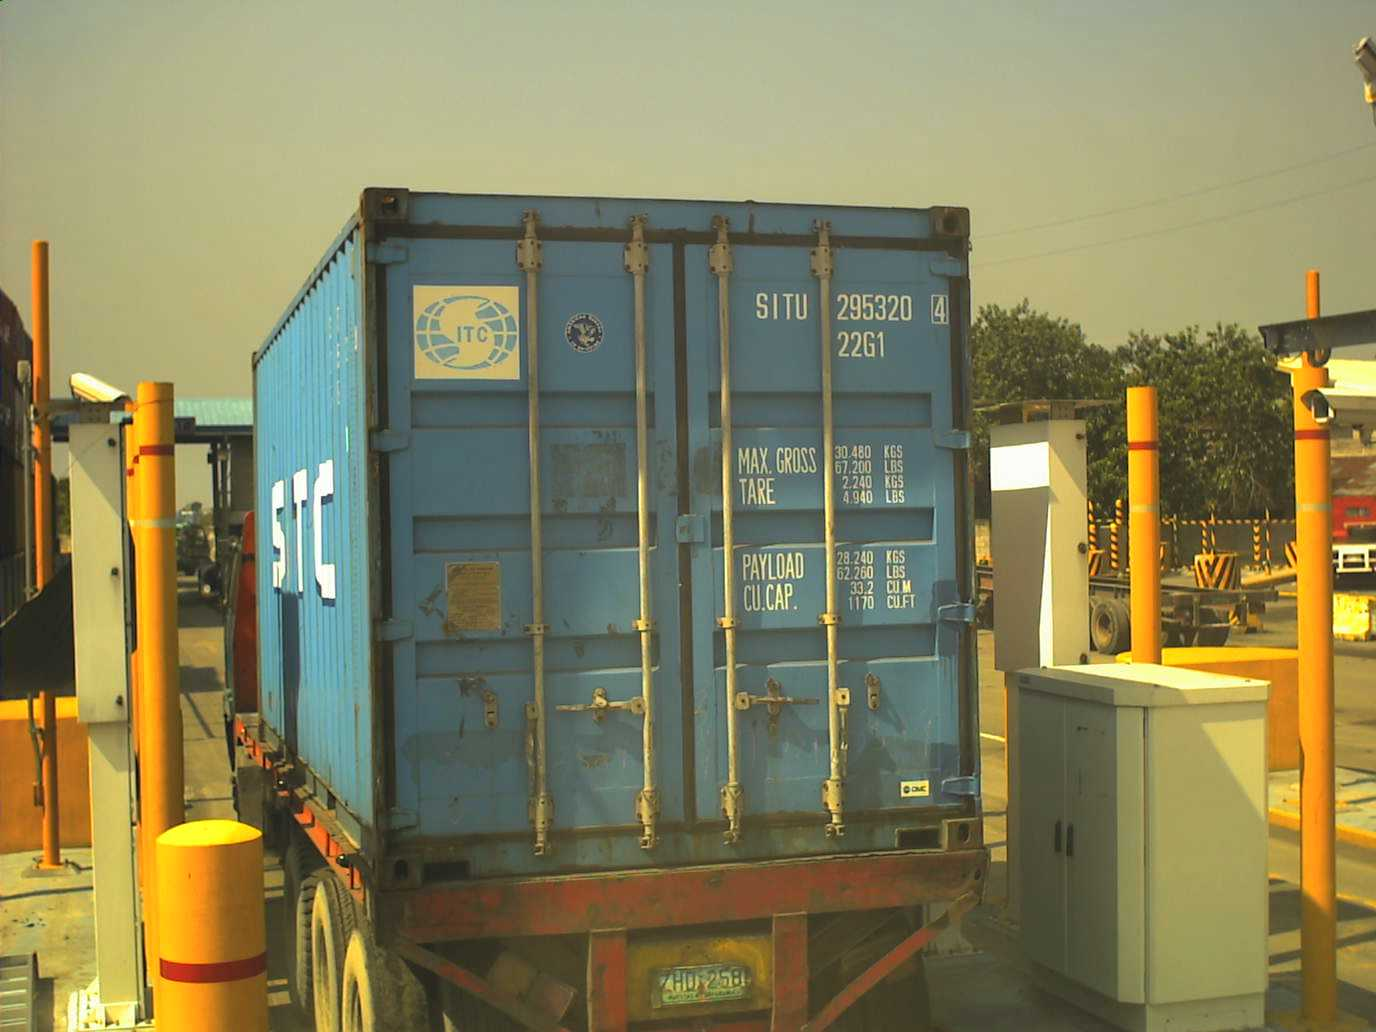container_door: (358, 175, 986, 870)
